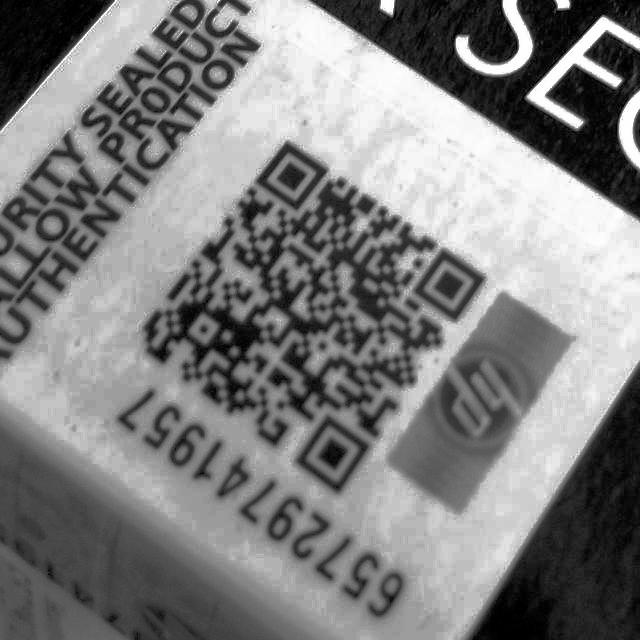qr_code: (132, 127, 493, 502)
